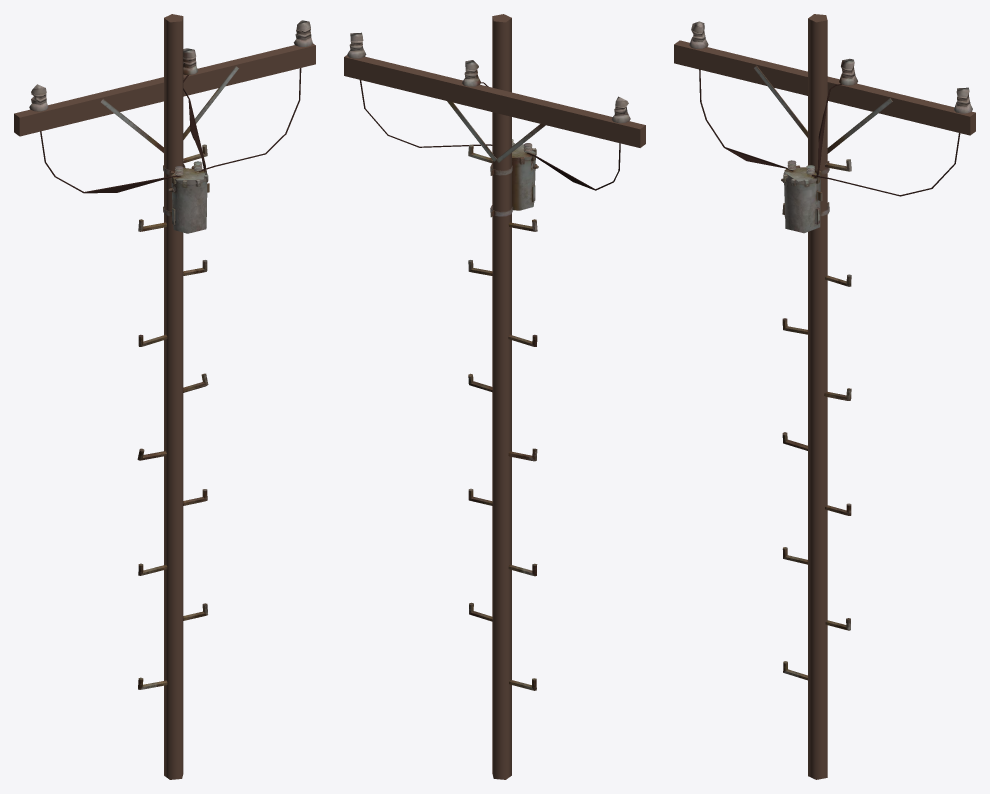
File: pole-transformer.lod0.glb
The picture shows the model from 3 angles, left to right: view 1: azimuth 30°, elevation 25°; view 2: azimuth 150°, elevation 25°; view 3: azimuth 330°, elevation 25°; orthographic projection.
Parts seen in each view (by area): view 1: pCylinder57_Wire_0, pCylinder37_Metal_0; view 2: pCylinder57_Wire_0, pCylinder37_Metal_0; view 3: pCylinder57_Wire_0, pCylinder37_Metal_0.
Part boxes in pixels (x1,y1,x2,y2): pCylinder57_Wire_0: (14,14,315,779); pCylinder37_Metal_0: (29,20,312,689); pCylinder57_Wire_0: (344,14,645,779); pCylinder37_Metal_0: (347,32,630,690); pCylinder57_Wire_0: (674,14,975,779); pCylinder37_Metal_0: (689,21,972,680).
Bounding box in the file's own units: 3.89 × 9.5 × 0.8598.
2 materials, 1 textured.
